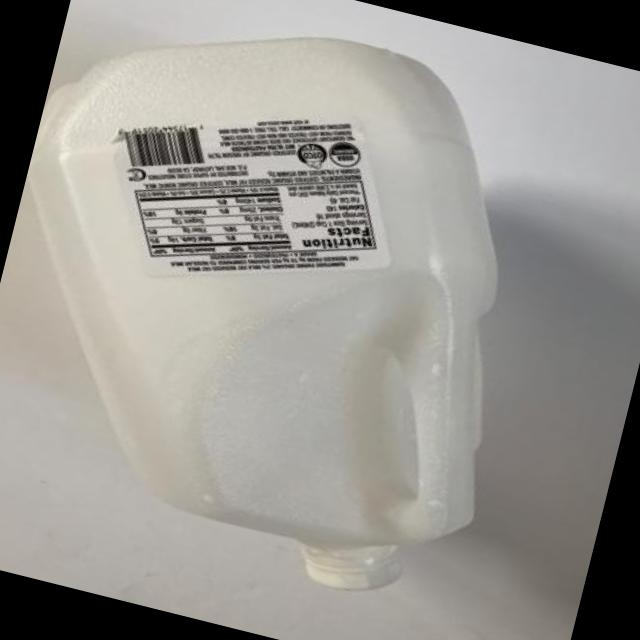plastic: (0, 9, 546, 594)
